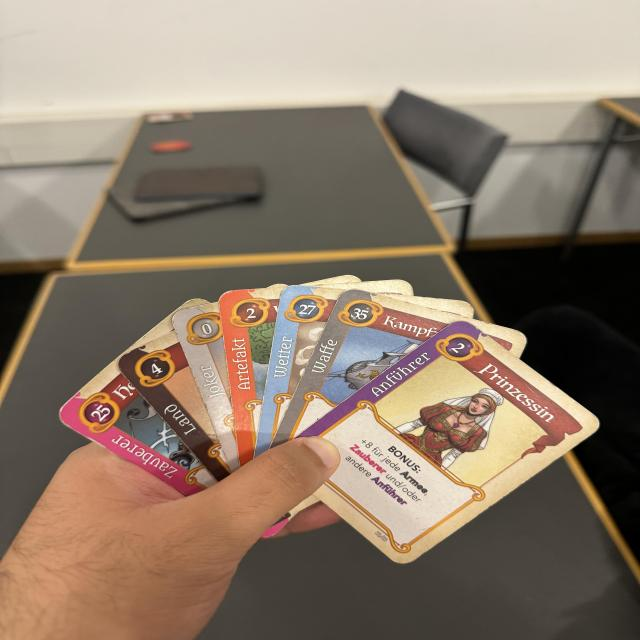Earth Elemental: (117, 332, 233, 480)
Mirage: (170, 299, 241, 474)
Princess: (294, 317, 607, 569)
Smoke: (257, 285, 340, 455)
War Dirigable: (274, 288, 462, 450)
Warlock Lord: (54, 360, 216, 498)
World Tree: (218, 289, 279, 465)
